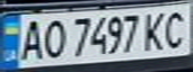4: (87, 13, 109, 55)
7: (66, 15, 90, 57), (121, 11, 142, 53)
9: (106, 12, 127, 55)
A: (18, 16, 48, 62)
C: (160, 7, 193, 51)
K: (139, 8, 172, 52)
O: (39, 16, 69, 61)
